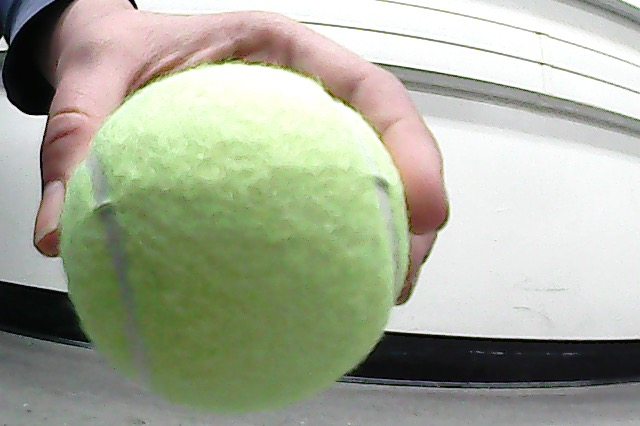ball: (54, 63, 416, 419)
